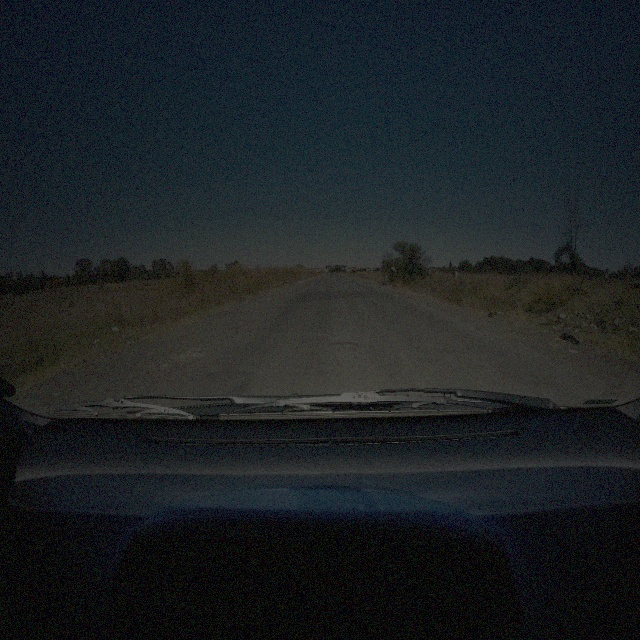pothole: (327, 340, 358, 351)
